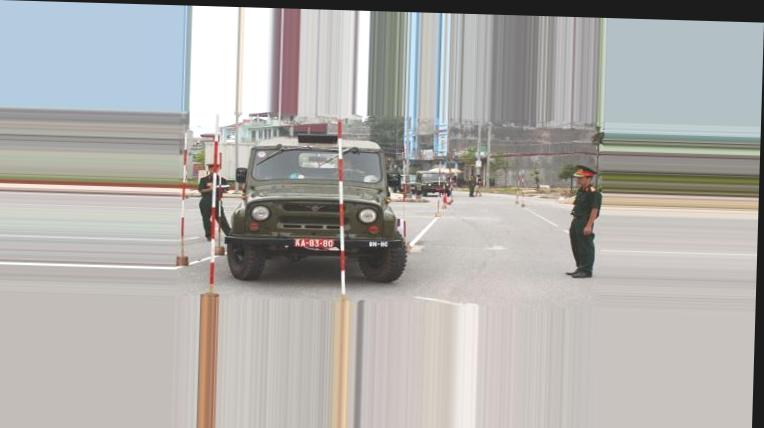License_Plate: (289, 234, 337, 251)
